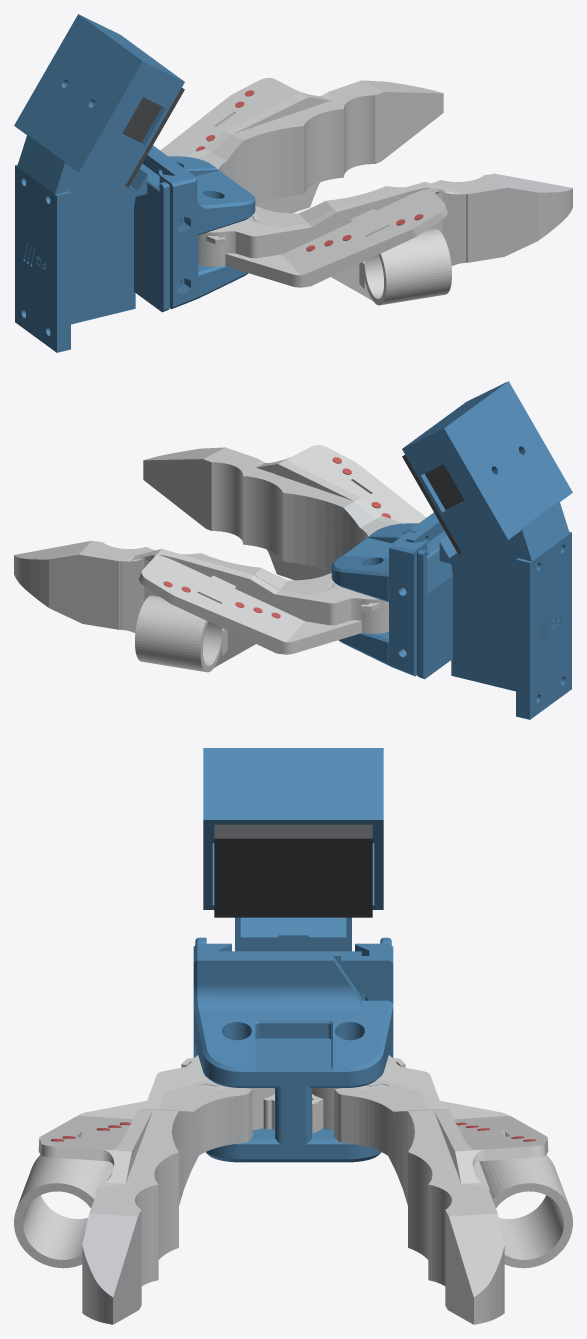
Rendered from pg_chopstick_data_d405.glb.
3 views of the same model, one above another, from view 1: azimuth 30°, elevation 25°; view 2: azimuth 150°, elevation 25°; view 3: azimuth 270°, elevation 25° (orthographic). The views are drawn at different scales.
Parts seen in each view (by area): view 1: d405_frame, jaw_right_dc, tip_tpu_left, tip_tpu_right, chopstick_base_dc, jaw_left_dc, d405_envelope; view 2: d405_frame, jaw_left_dc, tip_tpu_right, tip_tpu_left, jaw_right_dc, chopstick_base_dc, chopstick_clip_dc, d405_envelope; view 3: chopstick_base_dc, d405_frame, tip_tpu_left, tip_tpu_right, d405_envelope, jaw_left_dc, jaw_right_dc, chopstick_clip_dc.
Part boxes in pixels (x1,y1,x2,y2): d405_frame: (14, 14, 184, 352); jaw_right_dc: (198, 182, 466, 305); tip_tpu_left: (195, 80, 443, 204); tip_tpu_right: (248, 173, 572, 262); chopstick_base_dc: (142, 145, 255, 309); jaw_left_dc: (160, 78, 330, 213); d405_envelope: (122, 88, 184, 187); d405_frame: (402, 381, 572, 719); jaw_left_dc: (120, 549, 388, 672); tip_tpu_right: (143, 447, 391, 571); tip_tpu_left: (14, 540, 337, 629); jaw_right_dc: (256, 445, 426, 580); chopstick_base_dc: (331, 512, 444, 665); chopstick_clip_dc: (389, 532, 427, 676); d405_envelope: (402, 455, 464, 554); chopstick_base_dc: (193, 943, 393, 1162); d405_frame: (195, 748, 391, 1000); tip_tpu_left: (334, 1080, 504, 1324); tip_tpu_right: (82, 1080, 252, 1324); d405_envelope: (214, 824, 372, 917); jaw_left_dc: (312, 1055, 572, 1268); jaw_right_dc: (14, 1055, 274, 1268); chopstick_clip_dc: (341, 943, 393, 1057).
Size of the model in its own units: 0.2016 by 0.1149 by 0.1482.
